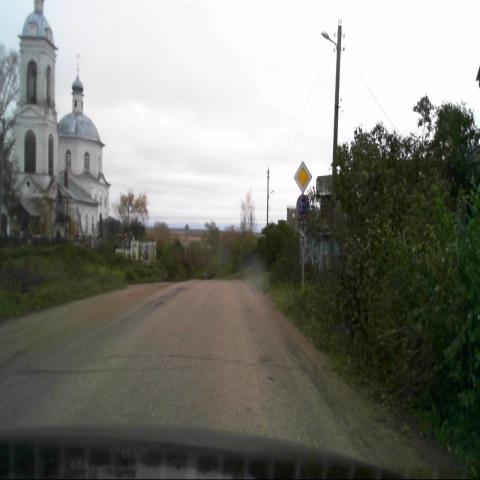2_1: (293, 161, 312, 194)
3_27: (296, 194, 310, 219)
